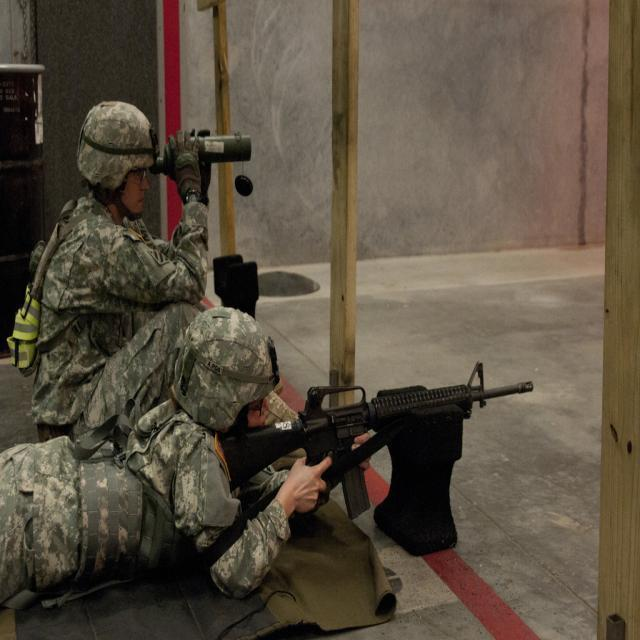Rifle: (220, 362, 532, 554)
